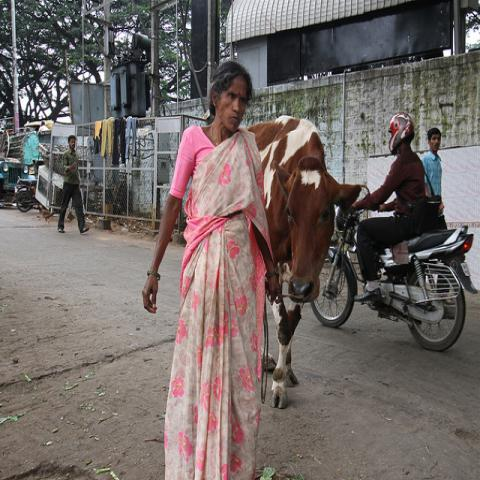motorcycle: (310, 202, 480, 355), (15, 175, 43, 213)
